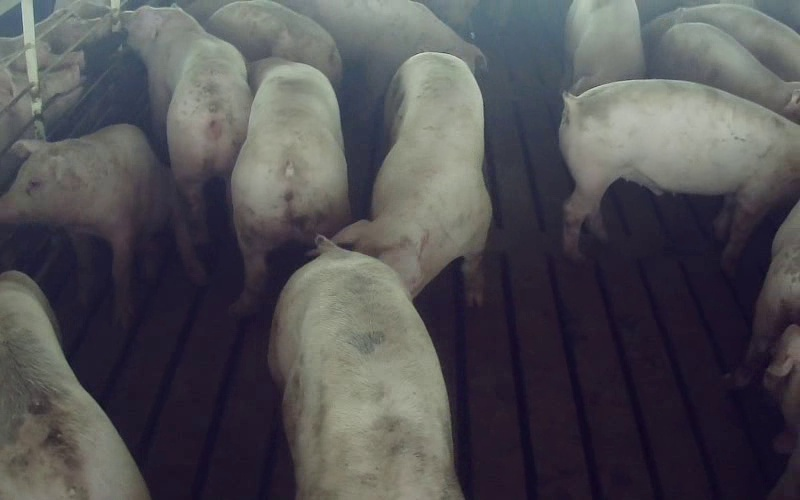pig: (269, 238, 461, 499), (560, 79, 799, 270), (0, 124, 204, 325), (333, 53, 491, 304), (231, 26, 349, 314), (127, 6, 251, 243), (651, 23, 799, 121), (206, 0, 341, 86), (566, 0, 645, 95)
